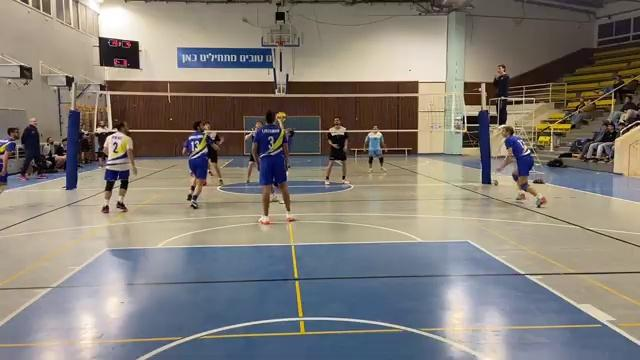ball: (276, 109, 289, 126)
